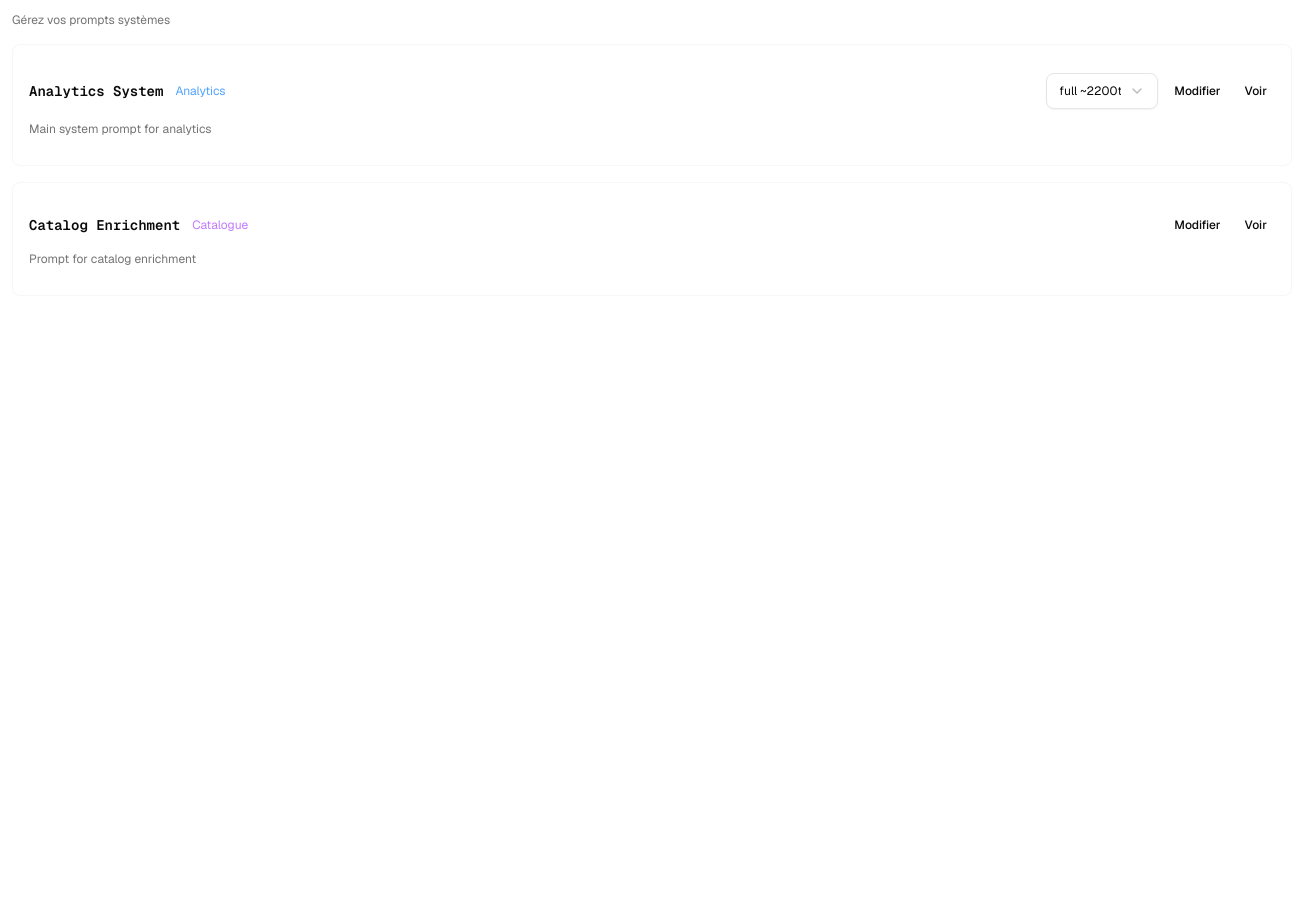
Test: PromptsTab › Edit functionality › should enter edit mode when Edit is clicked
Expected: the text "Analytics System" is shown, left=29, top=81, right=163, bottom=101
Step 1. Click the button "Modifier" in the row of "Analytics System" → {"x": 1197, "y": 91}, box left=1166, top=77, right=1228, bottom=105
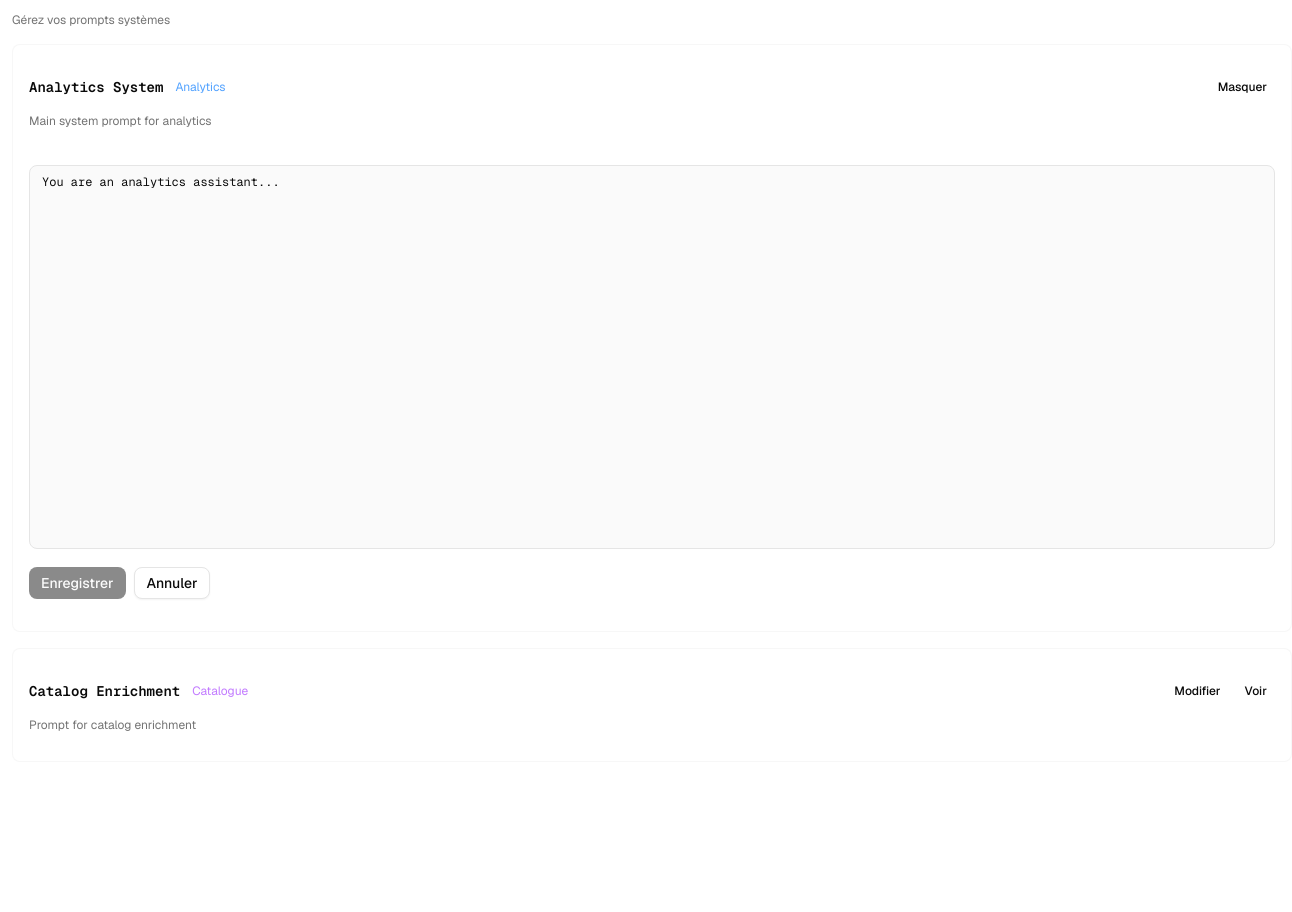
Now the text box is shown, box left=29, top=165, right=1275, bottom=549
